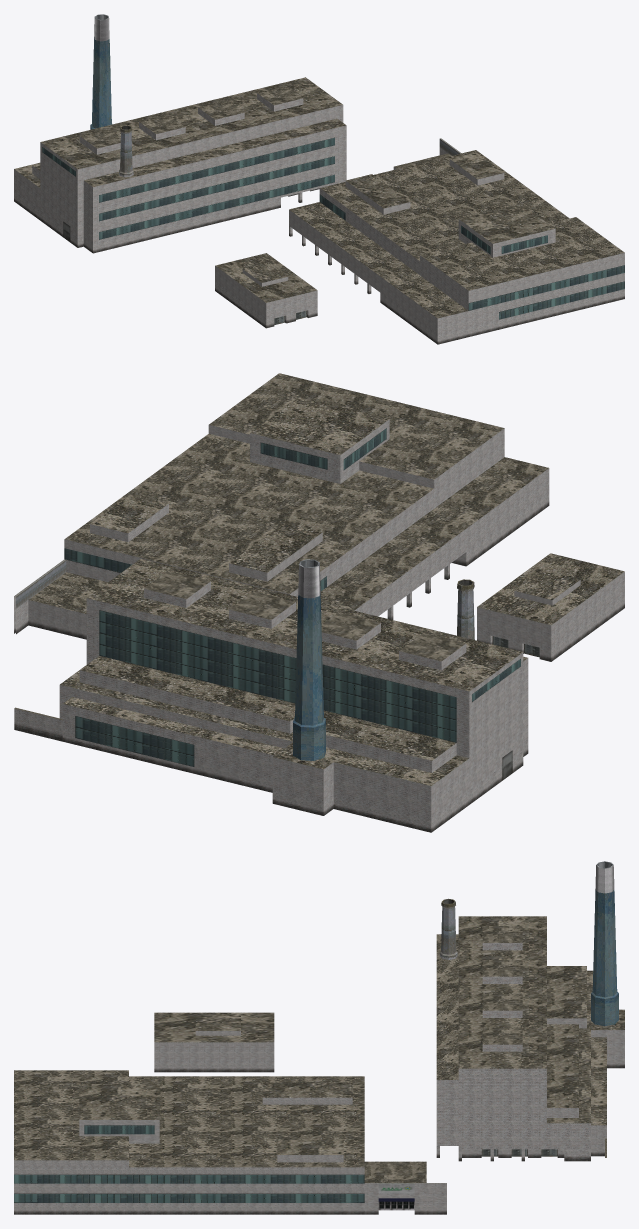
Rendered from vegasplant06.obj.
The picture shows the model from 3 angles, top to bottom: view 1: azimuth 30°, elevation 25°; view 2: azimuth 150°, elevation 25°; view 3: azimuth 270°, elevation 25°; orthographic projection. The views are drawn at different scales.
Parts seen in each view (by area): view 1: vegasplant06; view 2: vegasplant06; view 3: vegasplant06.
Part boxes in pixels (<box>): vegasplant06: <box>14,14,624,344</box>; vegasplant06: <box>14,373,624,832</box>; vegasplant06: <box>14,861,624,1214</box>.
Size of the model in its own units: 122 by 53.25 by 152.
12 materials, 12 textured.
